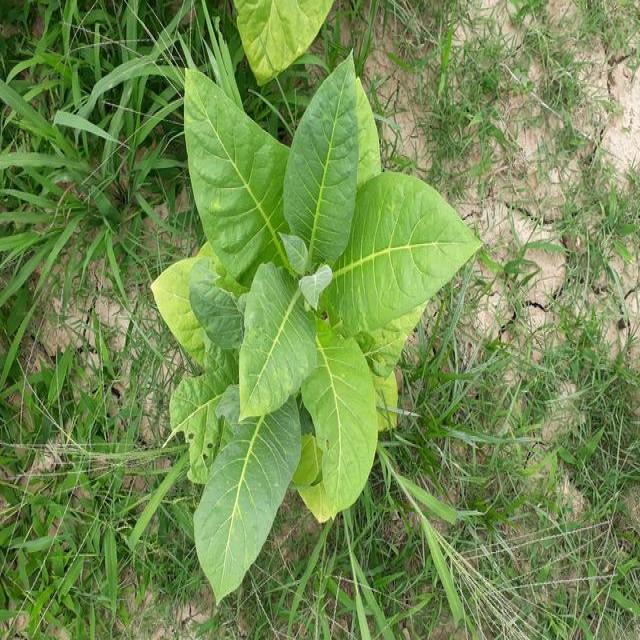crop: (153, 73, 484, 584), (235, 0, 338, 83)
